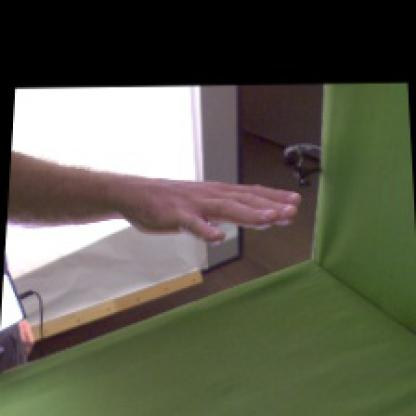Hand: (121, 175, 303, 243)
